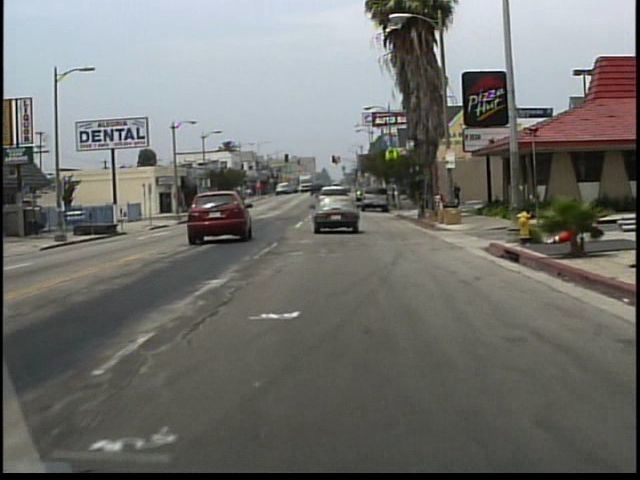person: (454, 183, 462, 209), (451, 185, 454, 209)
